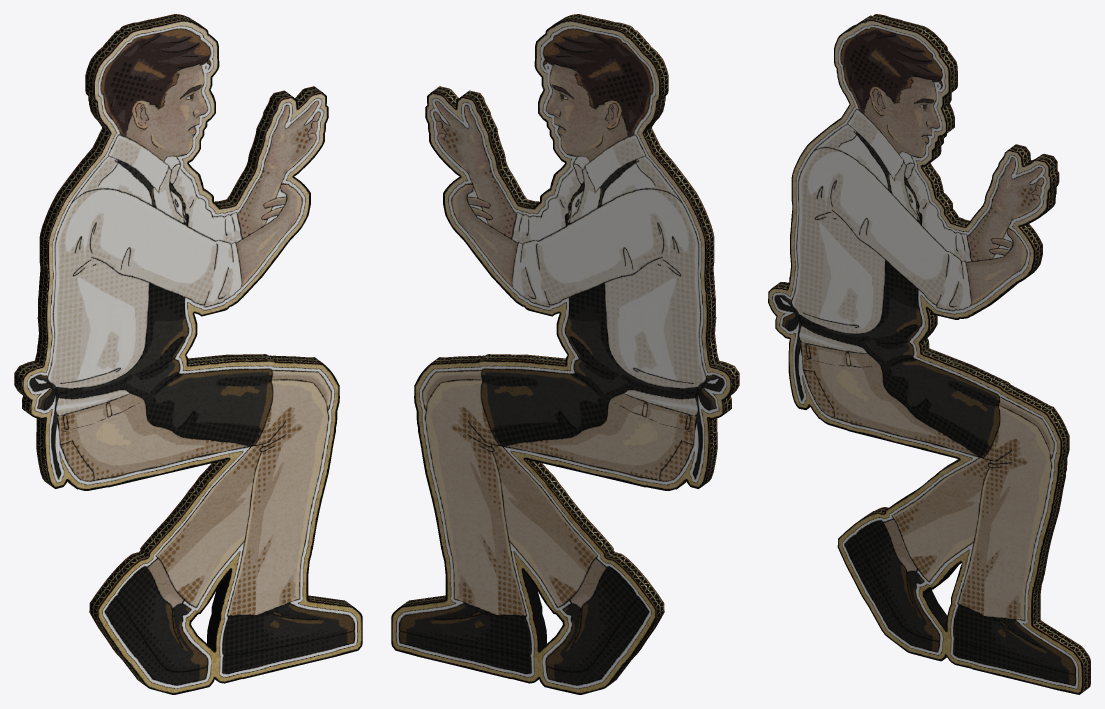
File: NPC_Cafe_Worker_Sitting_Chatting_Staff_Room_Male.FBX
The picture shows the model from 3 angles, left to right: view 1: azimuth 30°, elevation 25°; view 2: azimuth 150°, elevation 25°; view 3: azimuth 330°, elevation 25°; orthographic projection. The views are drawn at different scales.
Parts seen in each view (by area): view 1: NPC12_Shape; view 2: NPC12_Shape; view 3: NPC12_Shape.
Boxes of the visible parts, left/top/right/bottom form: NPC12_Shape: left=14, top=14, right=362, bottom=694; NPC12_Shape: left=391, top=14, right=739, bottom=694; NPC12_Shape: left=768, top=14, right=1090, bottom=694.
Size of the model in its own units: 29.68 by 56.26 by 1.24.
